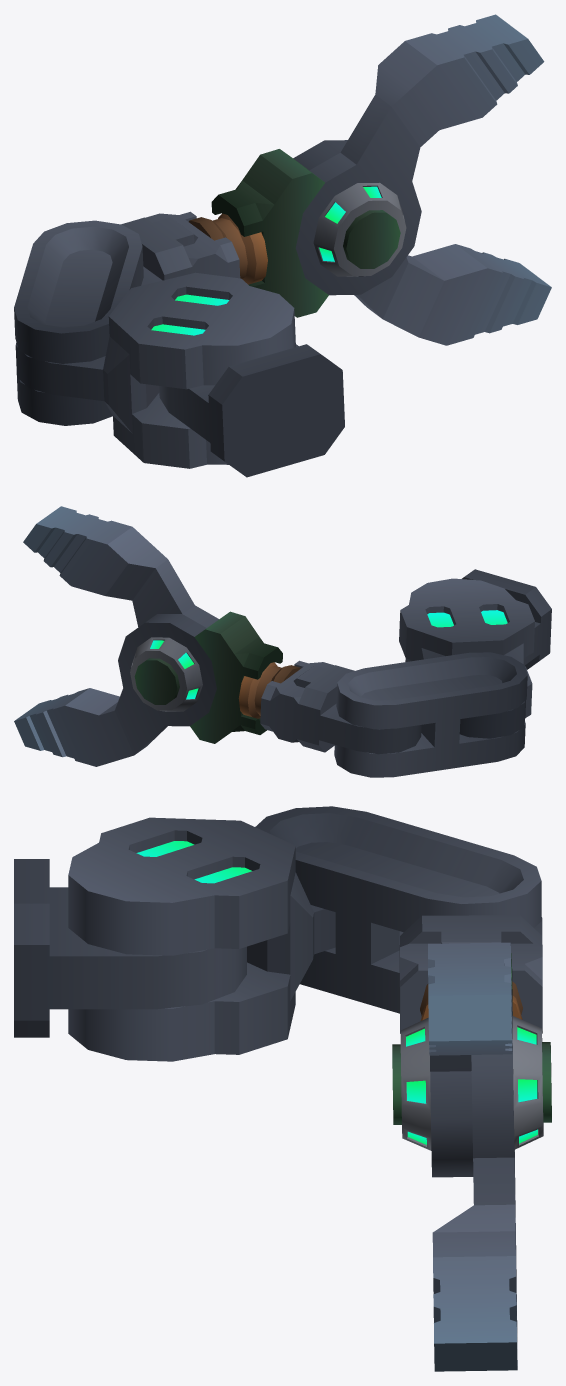
File: weapon_04.fbx
3 renders of one model, top to bottom at view 1: azimuth 30°, elevation 25°; view 2: azimuth 150°, elevation 25°; view 3: azimuth 270°, elevation 25°, orthographic. The views are drawn at different scales.
Visible parts, largest first — view 1: Plane.008, Plane.001, Plane.007, Plane.002, Plane.009, Plane.004, Plane.003, Plane.010, Plane.005; view 2: Plane.007, Plane.009, Plane.008, Plane.001, Plane.010, Plane.004, Plane.003, Plane.002, Plane.005; view 3: Plane.008, Plane.007, Plane.009, Plane.002, Plane.001, Plane.003, Plane.010.
Boxes of the visible parts, left/top/right/bottom form: Plane.008: left=15, top=272, right=295, bottom=468; Plane.001: left=295, top=14, right=544, bottom=295; Plane.007: left=14, top=220, right=143, bottom=425; Plane.002: left=159, top=344, right=344, bottom=477; Plane.009: left=293, top=140, right=551, bottom=345; Plane.004: left=211, top=149, right=328, bottom=317; Plane.003: left=313, top=182, right=406, bottom=276; Plane.010: left=121, top=211, right=240, bottom=285; Plane.005: left=189, top=213, right=267, bottom=284; Plane.007: left=334, top=652, right=527, bottom=777; Plane.009: left=14, top=614, right=216, bottom=766; Plane.008: left=399, top=578, right=534, bottom=738; Plane.001: left=23, top=506, right=218, bottom=627; Plane.010: left=260, top=660, right=421, bottom=754; Plane.004: left=190, top=611, right=282, bottom=743; Plane.003: left=130, top=637, right=202, bottom=711; Plane.002: left=405, top=569, right=551, bottom=669; Plane.005: left=238, top=662, right=300, bottom=718; Plane.008: left=68, top=817, right=335, bottom=1061; Plane.007: left=255, top=806, right=541, bottom=1013; Plane.009: left=432, top=989, right=517, bottom=1371; Plane.002: left=14, top=859, right=246, bottom=1037; Plane.001: left=428, top=942, right=512, bottom=1177; Plane.003: left=392, top=1016, right=551, bottom=1150; Plane.010: left=399, top=915, right=542, bottom=1033.
Bounding box in the file's own units: 454 × 219 × 285.
